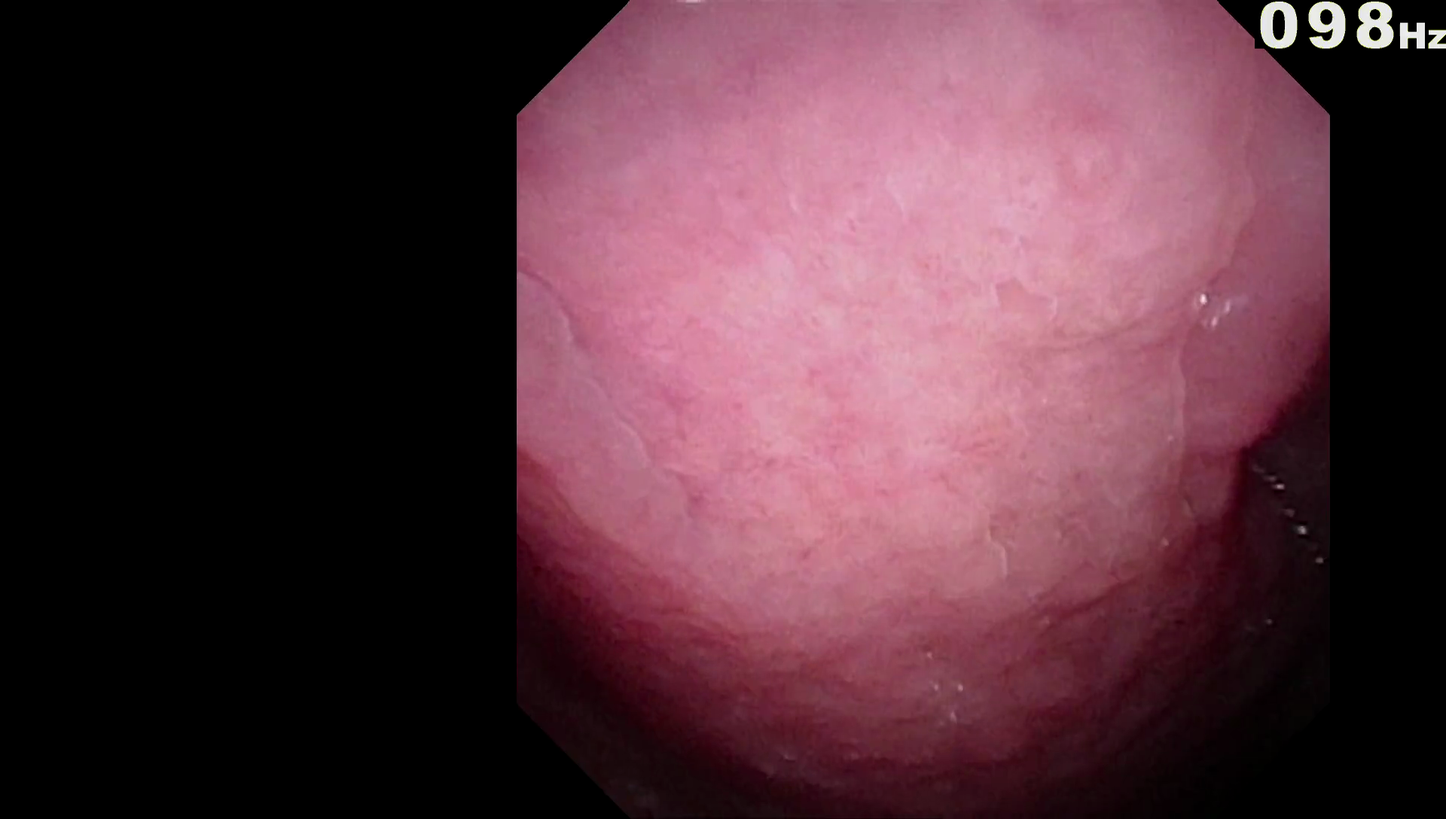close_wall: (566, 63, 1229, 644)
next: (1041, 558, 1269, 791), (551, 590, 772, 784), (1181, 345, 1311, 625)
